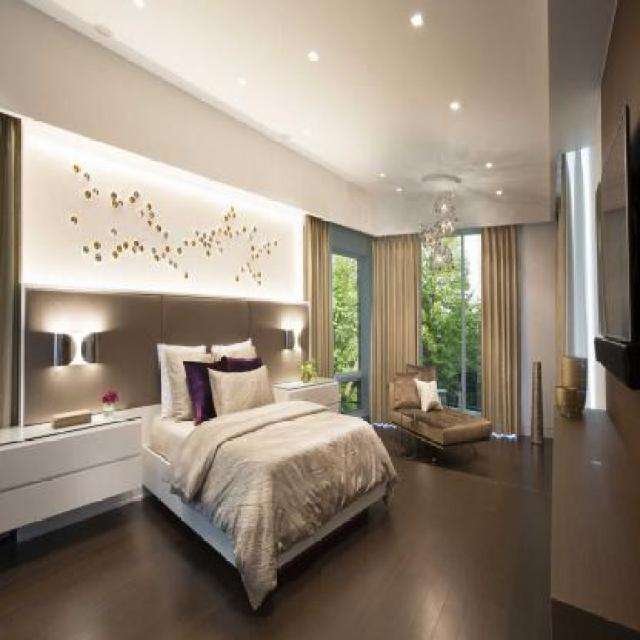Floor: (0, 427, 553, 639)
